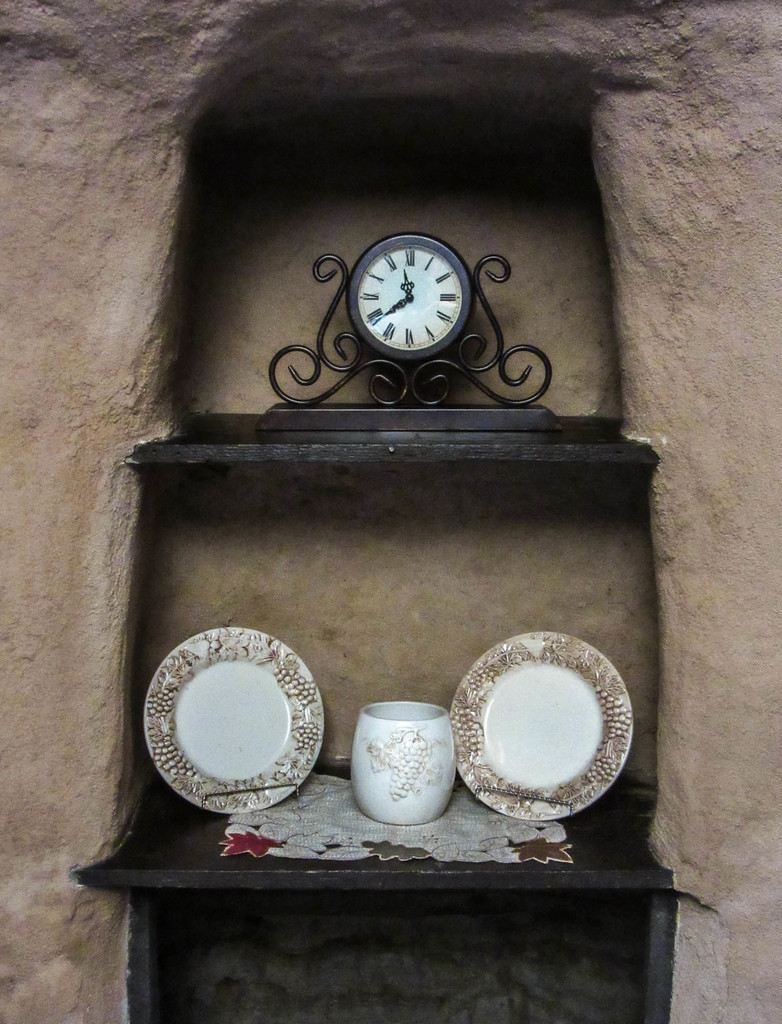plate: (153, 628, 323, 811)
